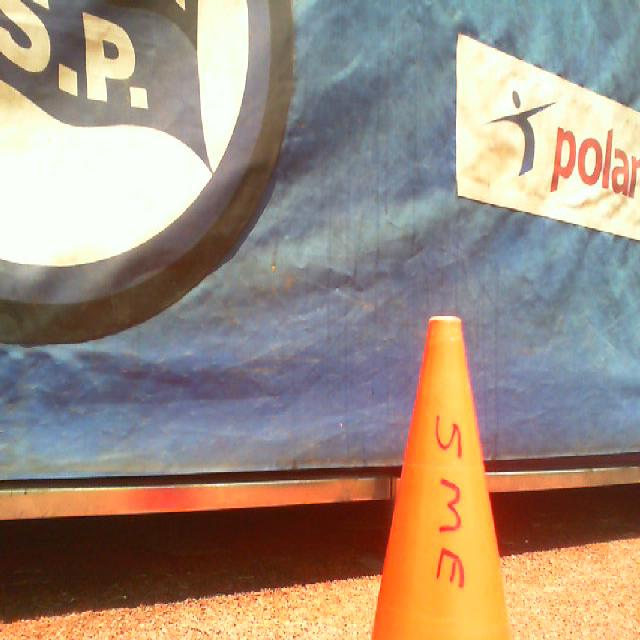cone: (370, 316, 512, 640)
